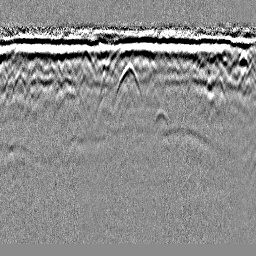cavity: (114, 59, 142, 101)
